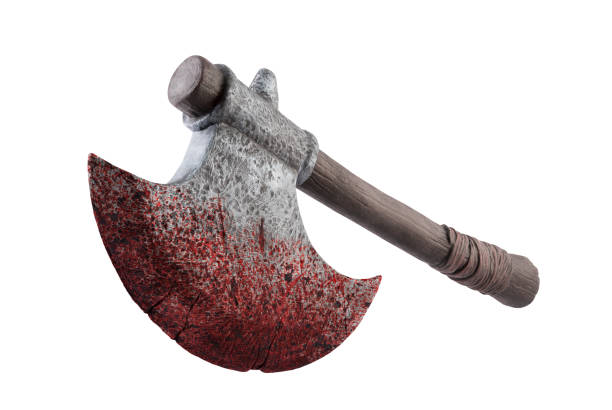14: (167, 54, 542, 300)
49: (85, 149, 383, 374)
handguns: (86, 54, 542, 376), (168, 55, 540, 309)
